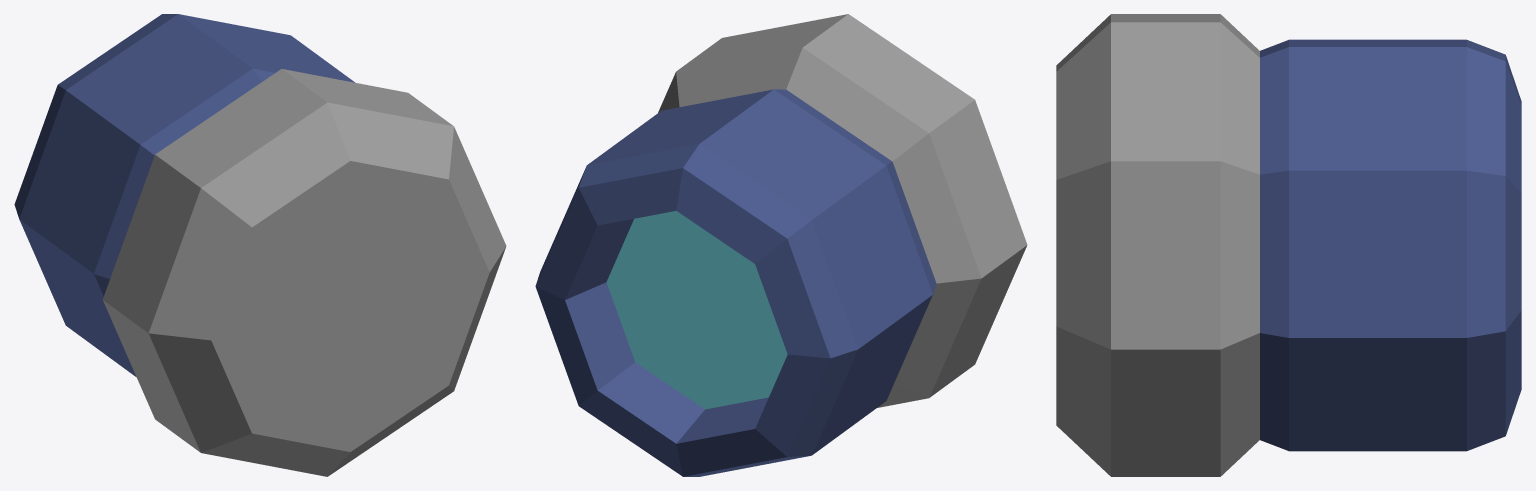
File: engine_ion.obj
The picture shows the model from 3 angles, left to right: view 1: azimuth 30°, elevation 25°; view 2: azimuth 150°, elevation 25°; view 3: azimuth 270°, elevation 25°; orthographic projection. The views are drawn at different scales.
Size of the model in its own units: 0.72 by 0.72 by 0.68.
